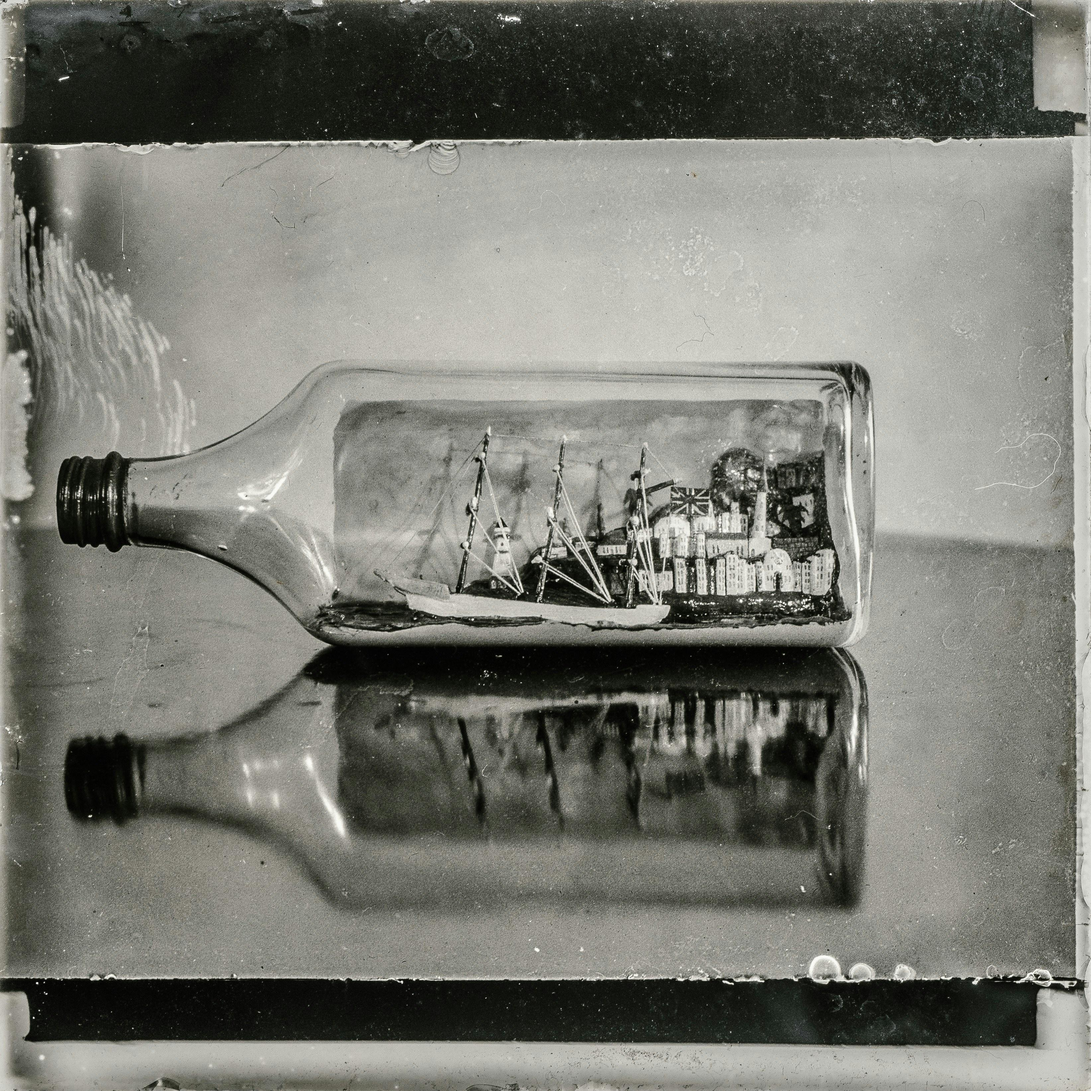Bottle-Detection: (27, 322, 1006, 674)
